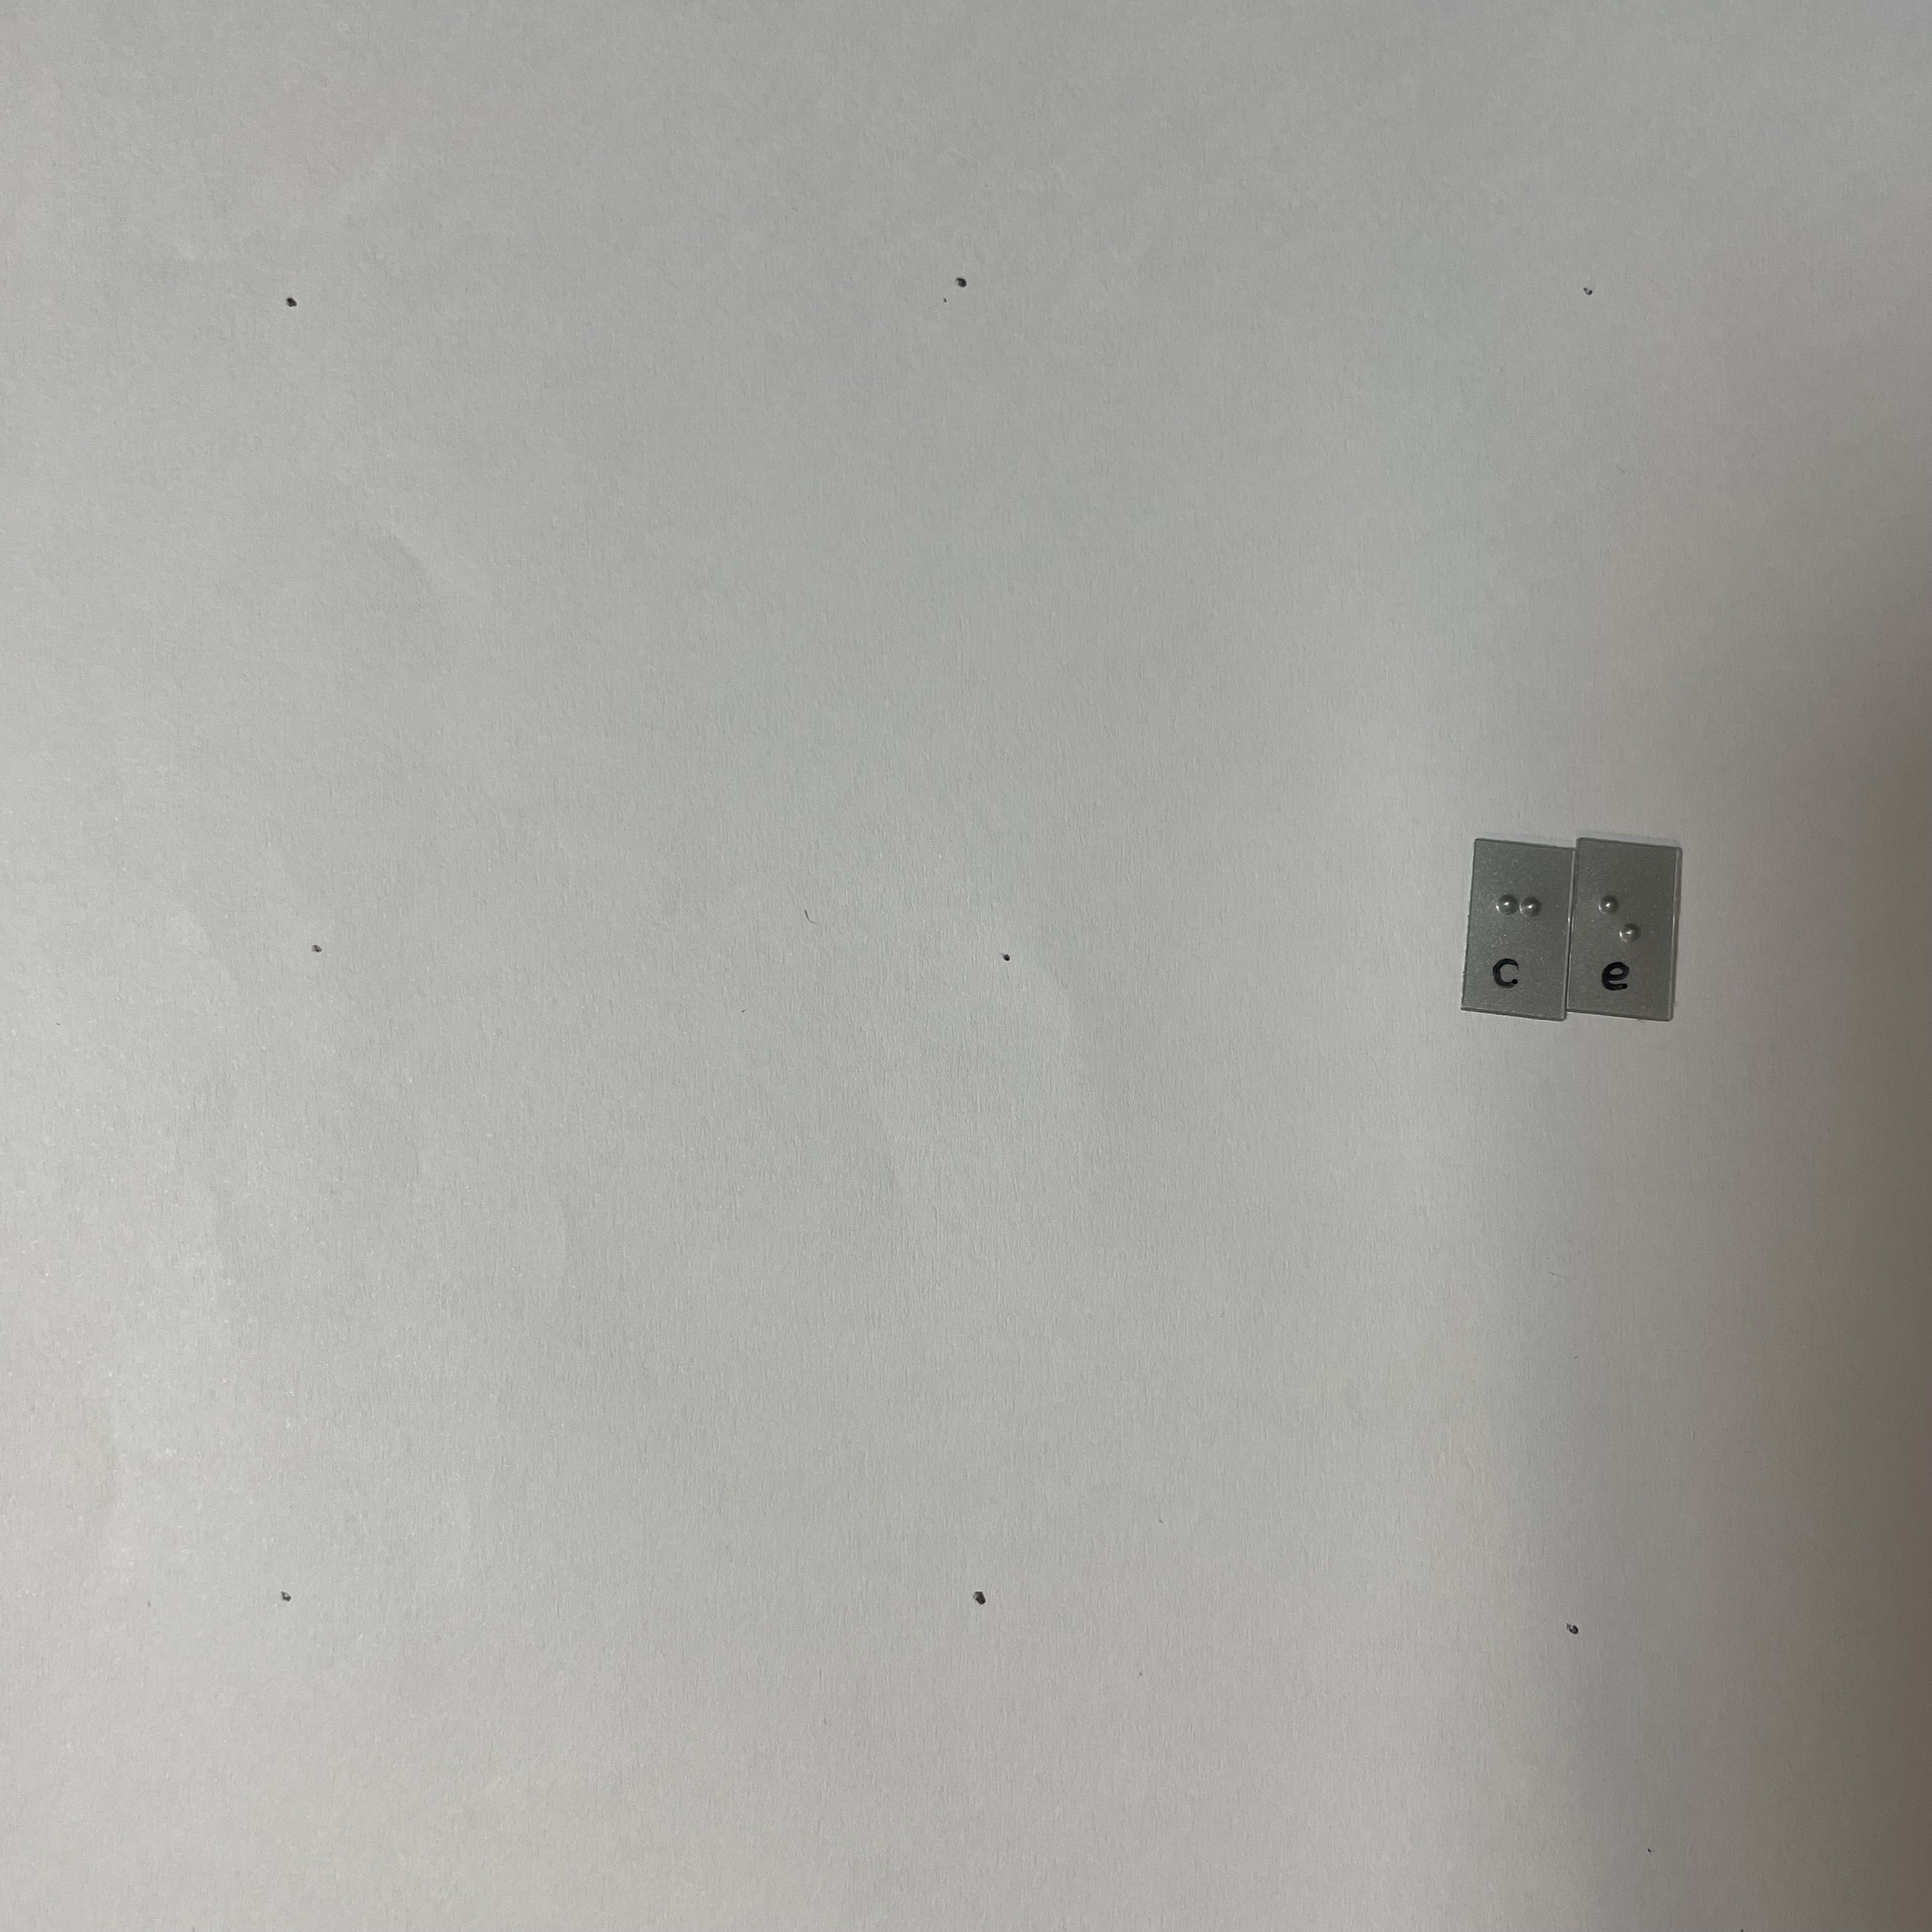c: (1492, 883, 1545, 951)
e: (1598, 883, 1646, 956)
